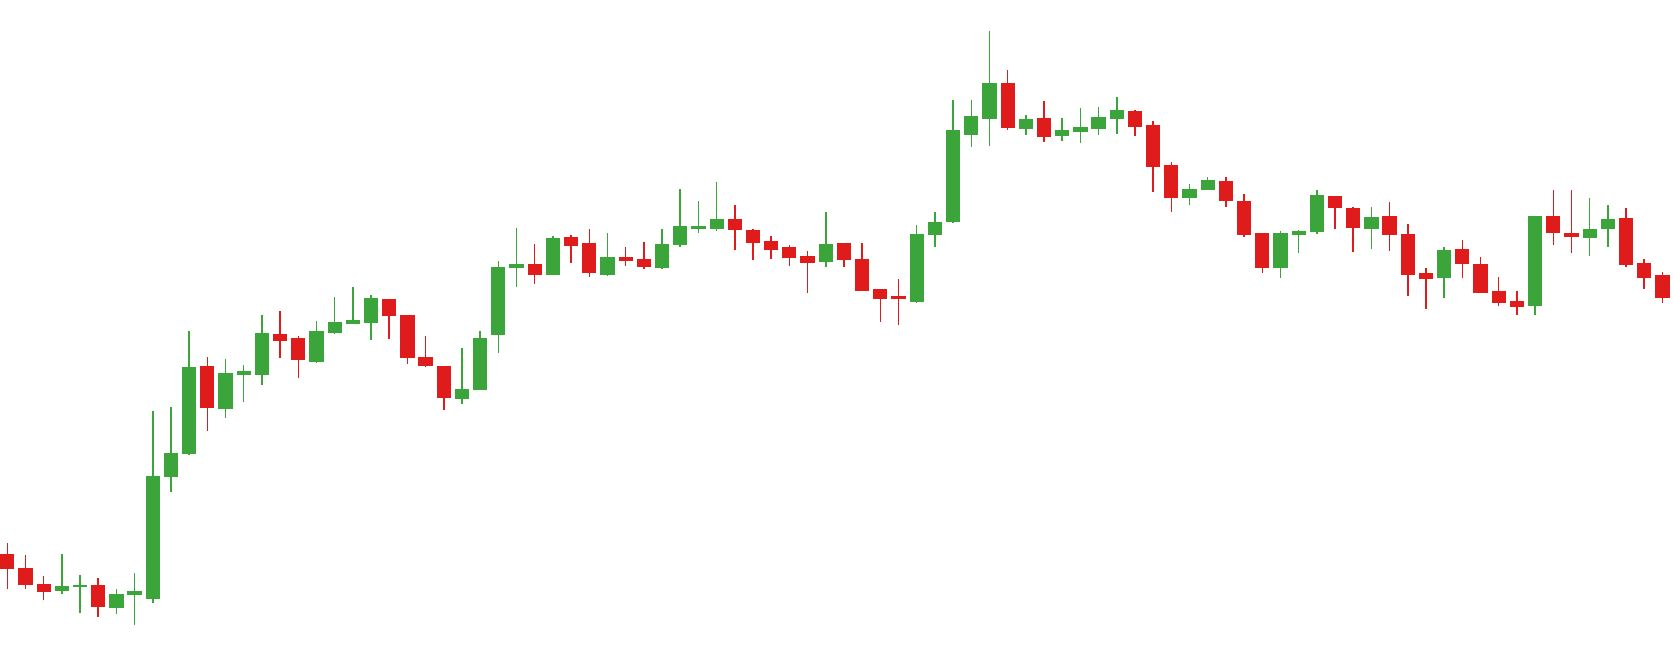buy: (290, 321, 491, 413)
